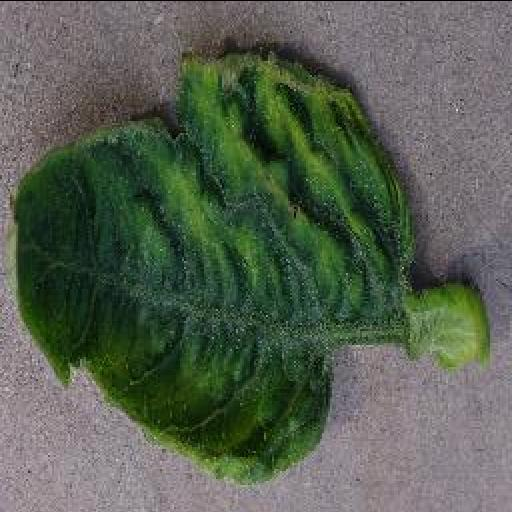disease_tomato: (6, 46, 418, 486)
